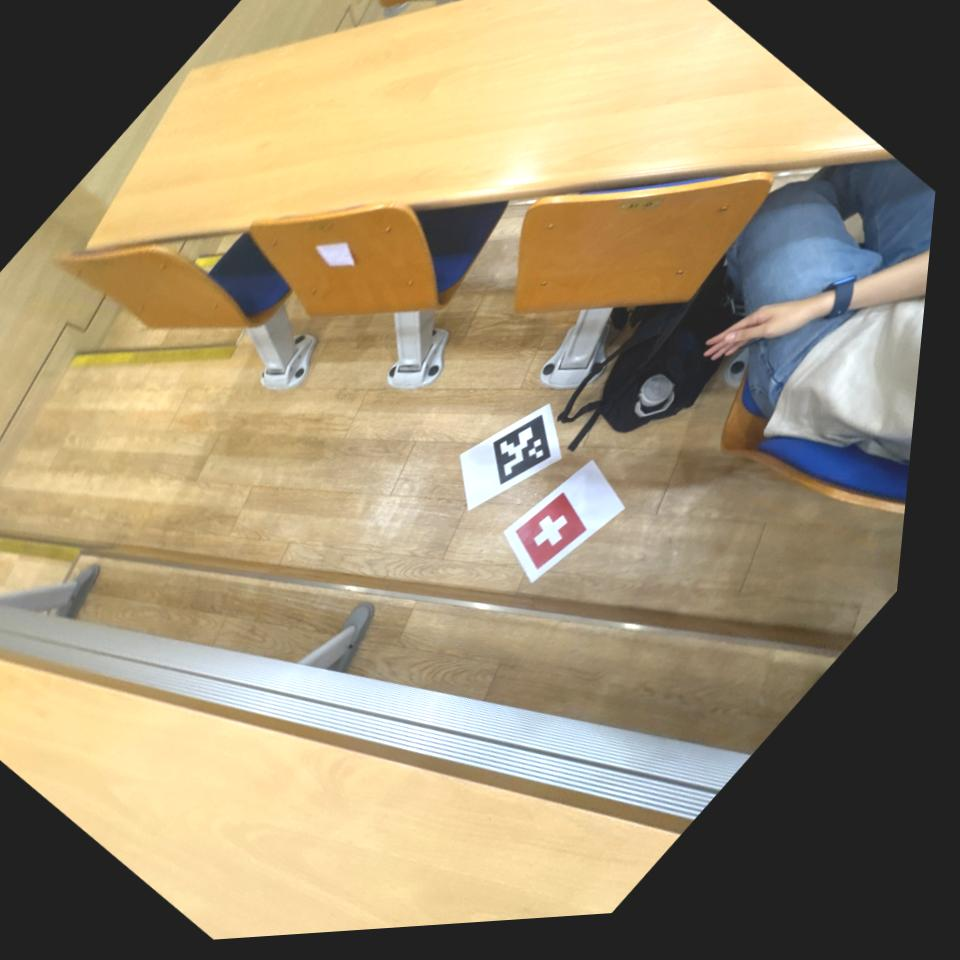ArUro mark: (466, 393, 579, 506)
rescue point: (490, 472, 607, 589)
